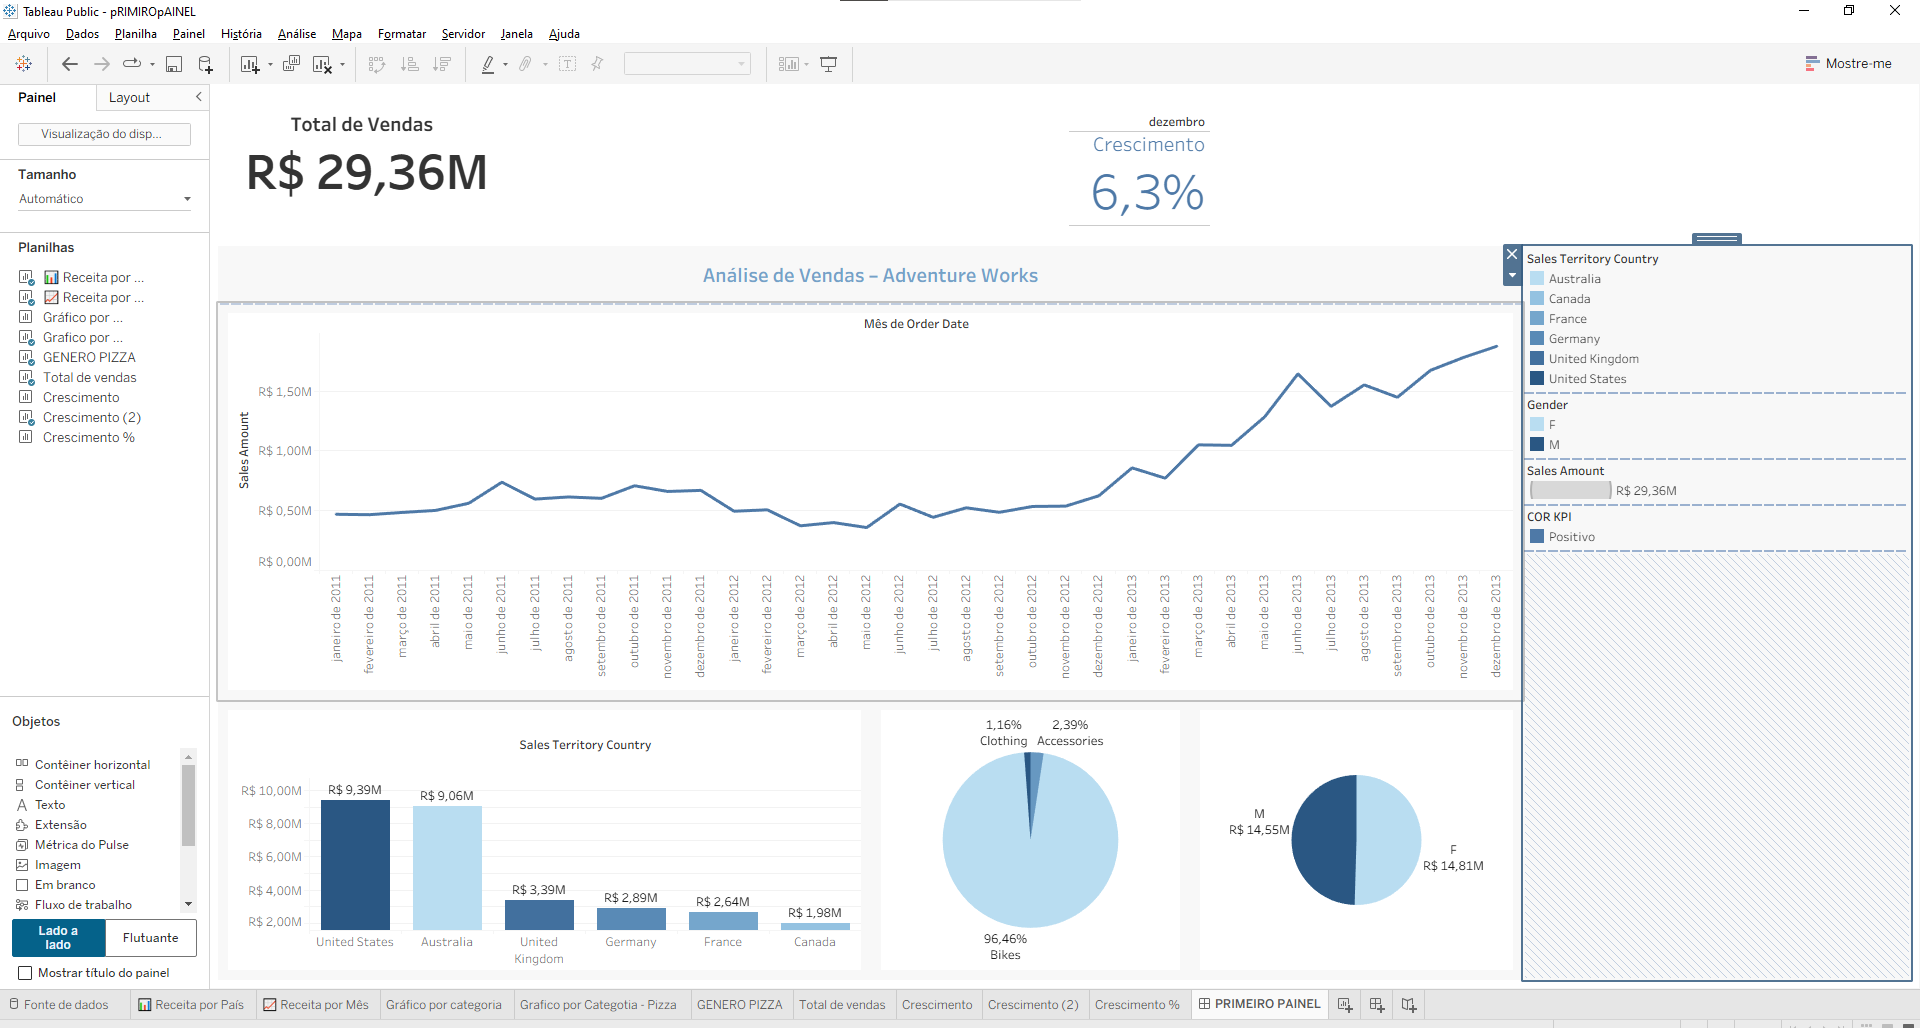

The page's visual inventory and layout, read from the dashboard file:
{"tool":"tableau","page":{"name":"PRIMEIRO PAINEL","canvas":[1000,1000],"units":"permille","ordinal":0},"visuals":[{"type":"worksheet","title":"Total de vendas","mark":"Text","box":[4.7,8.8,495.3,127.2]},{"type":"worksheet","title":"Crescimento (2)","mark":"Text","cols":["OrderDate"],"box":[500,8.8,495.3,170.3]},{"type":"text","box":[4.7,179.2,763.6,63.1]},{"type":"legend","title":"📊 Receita por País","param":"[federated.0xqe2vd1rdxdqj123lzf51hga50e].[none:SalesTerritoryCountry:nk]","box":[768.3,179.2,227,161.5]},{"type":"worksheet","title":"📈 Receita por Mês","mark":"Automatic","rows":["SalesAmount"],"cols":["OrderDate"],"box":[4.7,242.2,763.6,438.7]},{"type":"legend","title":"GENERO PIZZA","param":"[federated.0xqe2vd1rdxdqj123lzf51hga50e].[none:Gender:nk]","box":[768.3,340.7,227,73]},{"type":"legend","title":"GENERO PIZZA","param":"[federated.0xqe2vd1rdxdqj123lzf51hga50e].[sum:SalesAmount:qk]","box":[768.3,413.7,227,50.9]},{"type":"legend","title":"Crescimento (2)","param":"[federated.0xqe2vd1rdxdqj123lzf51hga50e].[usr:Calculation_0811765047857164:nk:1]","box":[768.3,464.6,227,50.9]},{"type":"worksheet","title":"📊 Receita por País","mark":"Automatic","rows":["SalesAmount"],"cols":["SalesTerritoryCountry"],"box":[4.7,680.9,381.8,310.2]},{"type":"worksheet","title":"Grafico por Categotia - Pizza","mark":"Pie","box":[386.5,680.9,186.9,310.2]},{"type":"worksheet","title":"GENERO PIZZA","mark":"Pie","box":[573.4,680.9,194.9,310.2]}]}

Visuals, with their boxes on the dashboard's canvas, which has no fixed pixel size, in thousandths of its width and height (x1, y1, x2, y2). These are canvas units, not pixel positions in the 1920x1028 screenshot, which may show the page scaled, cropped or inside an application window:
"Total de vendas" worksheet (Text marks): pyautogui.locateOnScreen(5, 9, 500, 136)
"Crescimento (2)" worksheet (Text marks): pyautogui.locateOnScreen(500, 9, 995, 179)
text: pyautogui.locateOnScreen(5, 179, 768, 242)
"📊 Receita por País" legend: pyautogui.locateOnScreen(768, 179, 995, 341)
"📈 Receita por Mês" worksheet: pyautogui.locateOnScreen(5, 242, 768, 681)
"GENERO PIZZA" legend: pyautogui.locateOnScreen(768, 341, 995, 414)
"GENERO PIZZA" legend: pyautogui.locateOnScreen(768, 414, 995, 465)
"Crescimento (2)" legend: pyautogui.locateOnScreen(768, 465, 995, 516)
"📊 Receita por País" worksheet: pyautogui.locateOnScreen(5, 681, 386, 991)
"Grafico por Categotia - Pizza" worksheet (Pie marks): pyautogui.locateOnScreen(386, 681, 573, 991)
"GENERO PIZZA" worksheet (Pie marks): pyautogui.locateOnScreen(573, 681, 768, 991)
